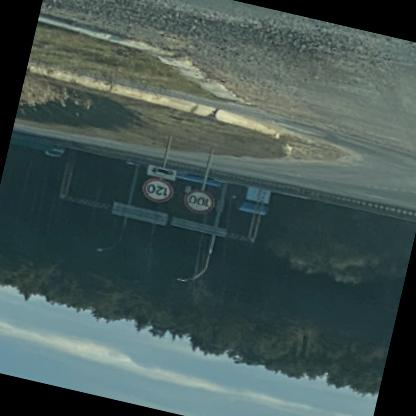speedlimit: (141, 178, 176, 207), (184, 190, 218, 219)
